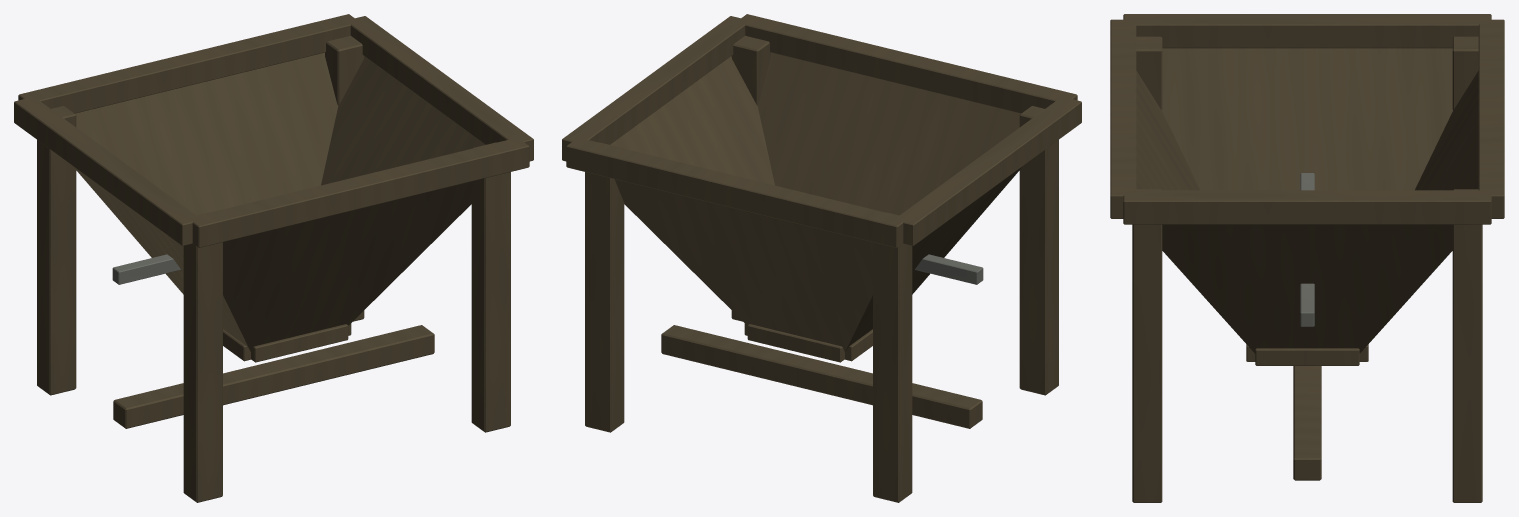
File: WarrensC_WVC062_MillHopper_Mars_SM.fbx
3 renders of one model, left to right at view 1: azimuth 30°, elevation 25°; view 2: azimuth 150°, elevation 25°; view 3: azimuth 270°, elevation 25°, orthographic. The views are drawn at different scales.
Visible parts, largest first — view 1: WarrensC_WVC062_MillHopper_Mars_SM.001; view 2: WarrensC_WVC062_MillHopper_Mars_SM.001; view 3: WarrensC_WVC062_MillHopper_Mars_SM.001.
Part boxes in pixels (left/top/right/bottom): WarrensC_WVC062_MillHopper_Mars_SM.001: left=14, top=14, right=533, bottom=502; WarrensC_WVC062_MillHopper_Mars_SM.001: left=562, top=14, right=1081, bottom=502; WarrensC_WVC062_MillHopper_Mars_SM.001: left=1110, top=14, right=1504, bottom=502.
Bounding box in the file's own units: 180 × 160 × 140.
